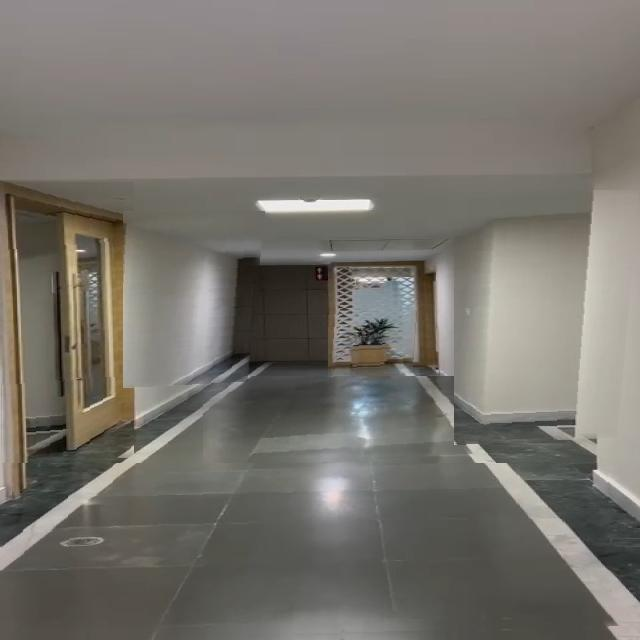door: (0, 182, 134, 467)
floor: (0, 463, 640, 640), (203, 376, 486, 470)
furniture: (328, 308, 418, 377)
wall: (454, 190, 640, 447), (123, 212, 266, 390)
